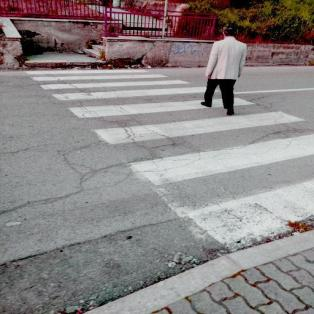Paso de Cebra: (125, 132, 314, 265), (40, 85, 264, 120)
